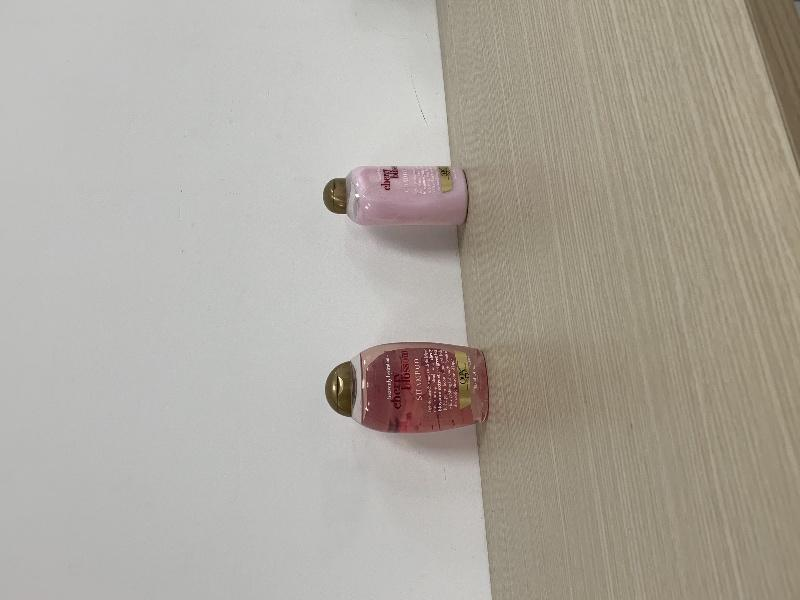CherryBlossom_Conditioner: (323, 166, 468, 226)
CherryBlossom_Shampoo: (325, 342, 488, 433)
